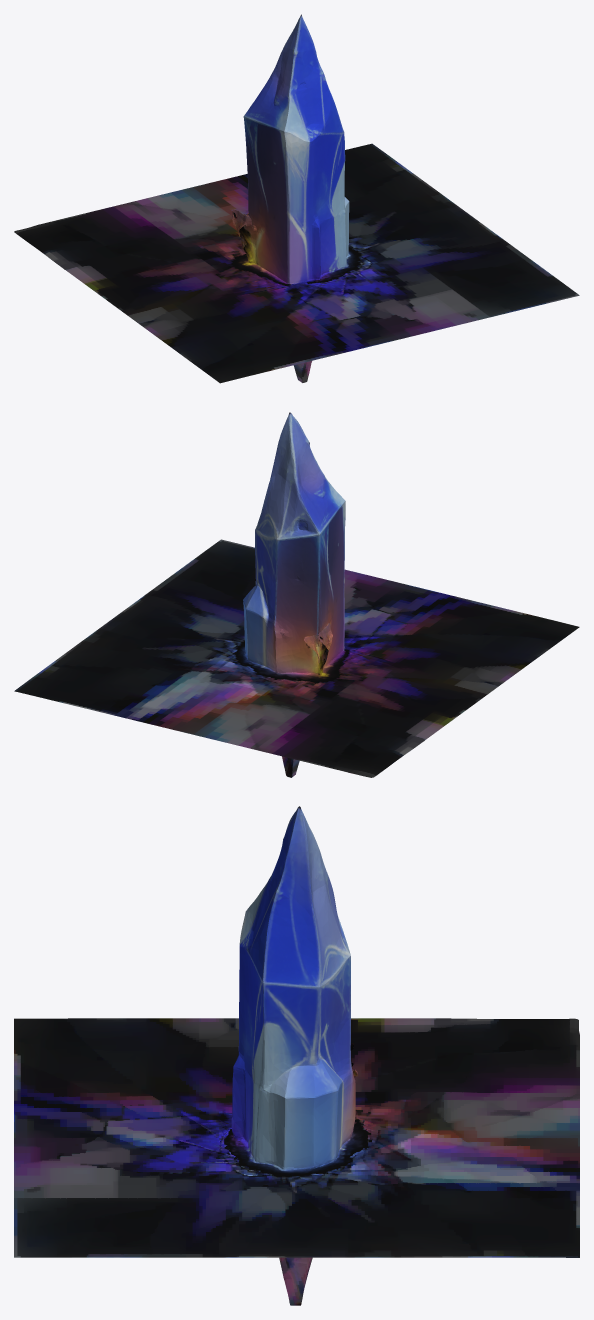
File: env-crystal-pillars.glb
3 views of the same model, one above another, from view 1: azimuth 30°, elevation 25°; view 2: azimuth 150°, elevation 25°; view 3: azimuth 270°, elevation 25° (orthographic). The views are drawn at different scales.
Parts seen in each view (by area): view 1: world; view 2: world; view 3: world.
Part boxes in pixels (x1=…): world: x1=14, y1=14, x2=579, y2=383; world: x1=14, y1=412, x2=579, y2=777; world: x1=14, y1=806, x2=579, y2=1305.
Bounding box in the file's own units: 1 × 0.9718 × 1.
1 material, 1 textured.
